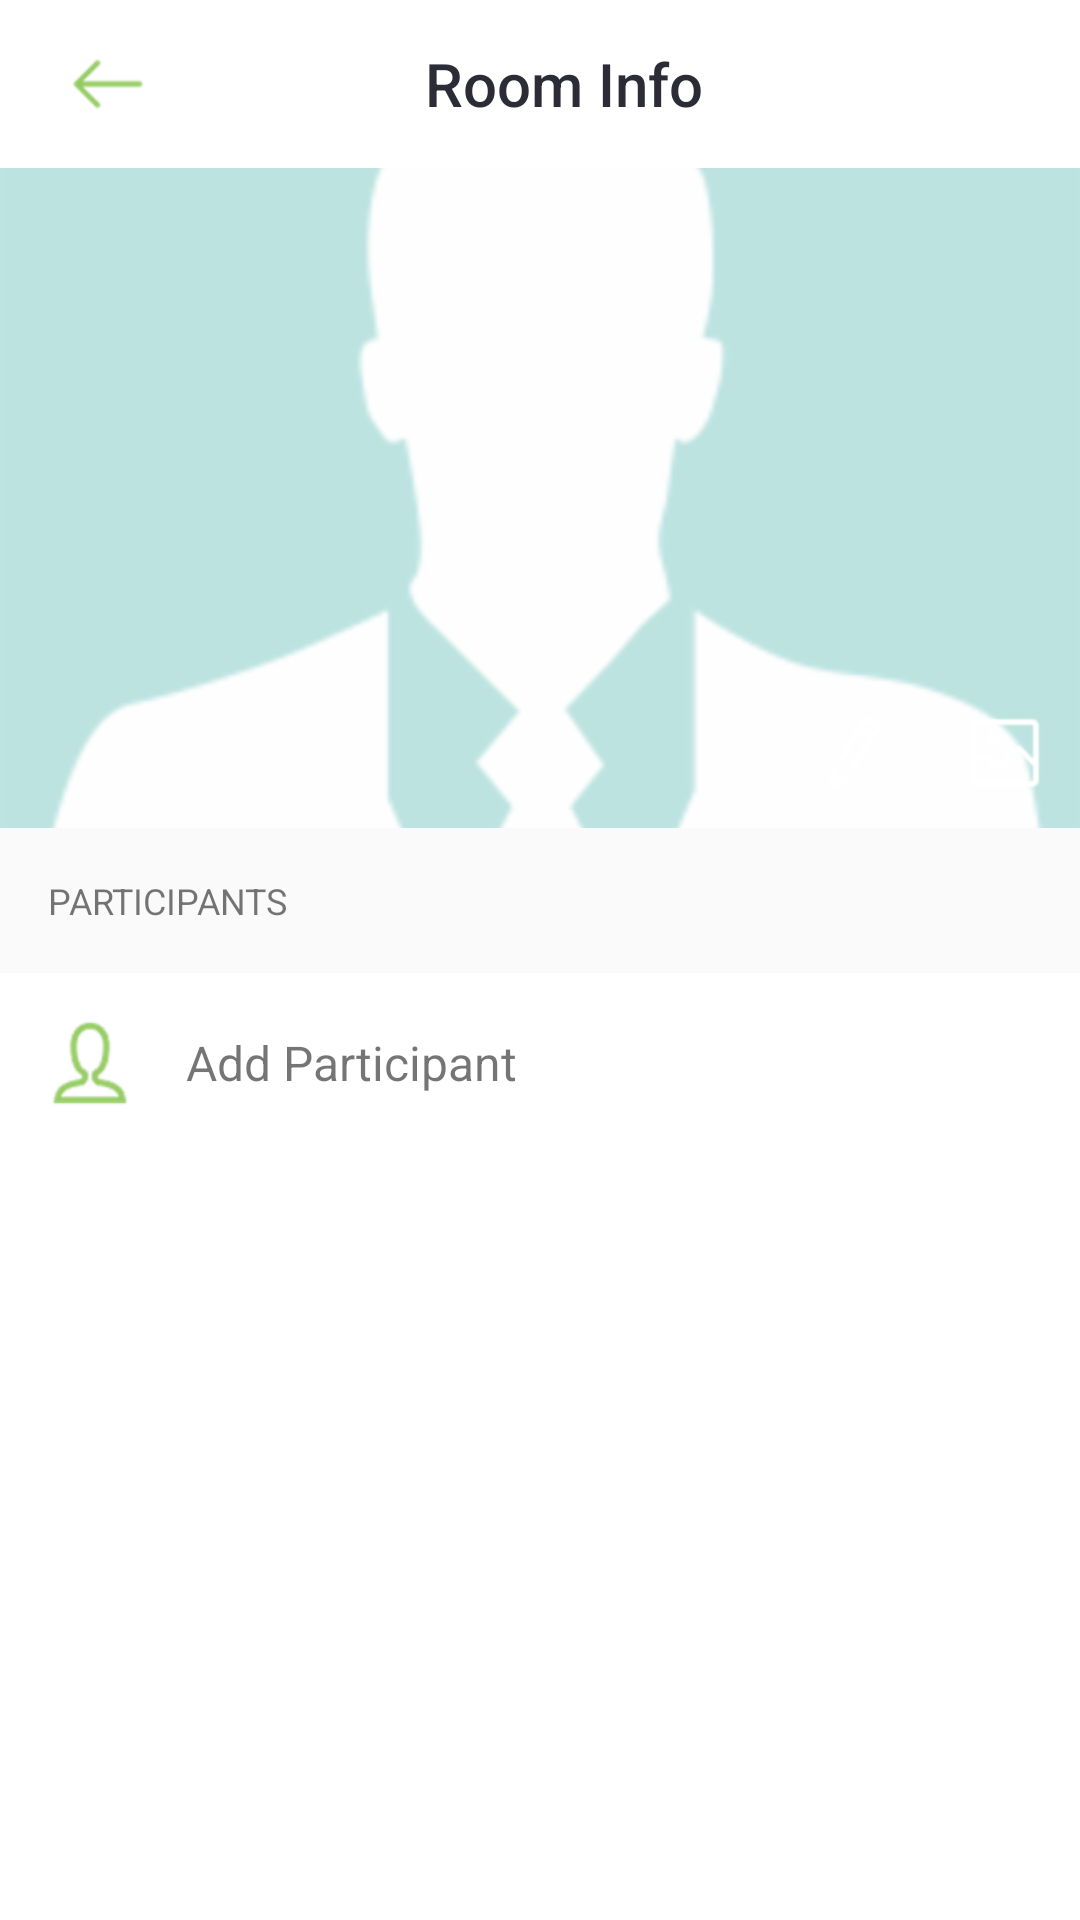

Locate icon controls on the screen. Image size 1080×1920, boxes as rect(x1, y1, x2, y2).
back: rect(73, 59, 143, 109)
contact: rect(53, 1022, 127, 1104)
